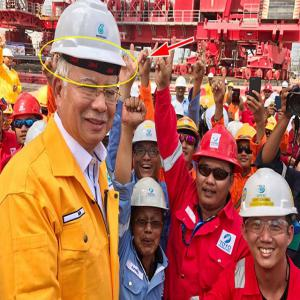red: (12, 94, 43, 145), (265, 85, 275, 99)
white: (52, 2, 124, 144), (240, 170, 296, 270), (128, 178, 168, 258), (131, 119, 165, 182), (174, 77, 188, 99), (2, 47, 15, 70), (208, 73, 214, 85), (282, 81, 289, 91)
yellow: (176, 115, 201, 165), (235, 125, 259, 169), (263, 116, 279, 141), (228, 83, 234, 91)
